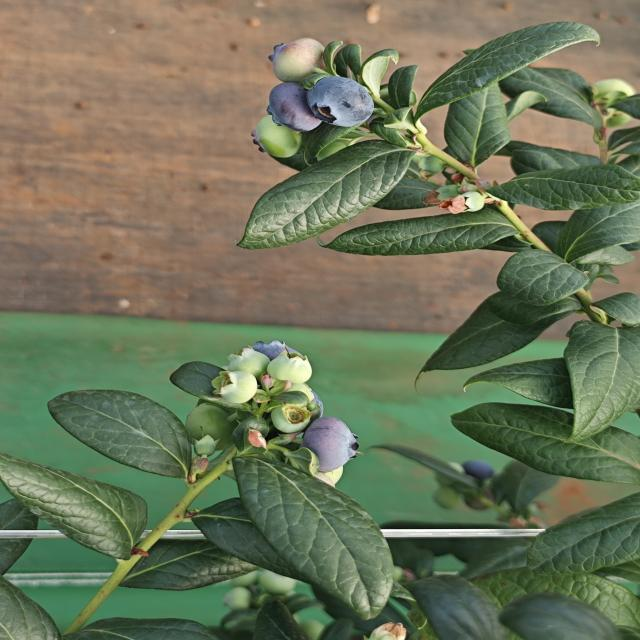ripe: (305, 72, 381, 130), (231, 324, 309, 377), (264, 75, 332, 135), (299, 415, 362, 475), (435, 454, 504, 499)
